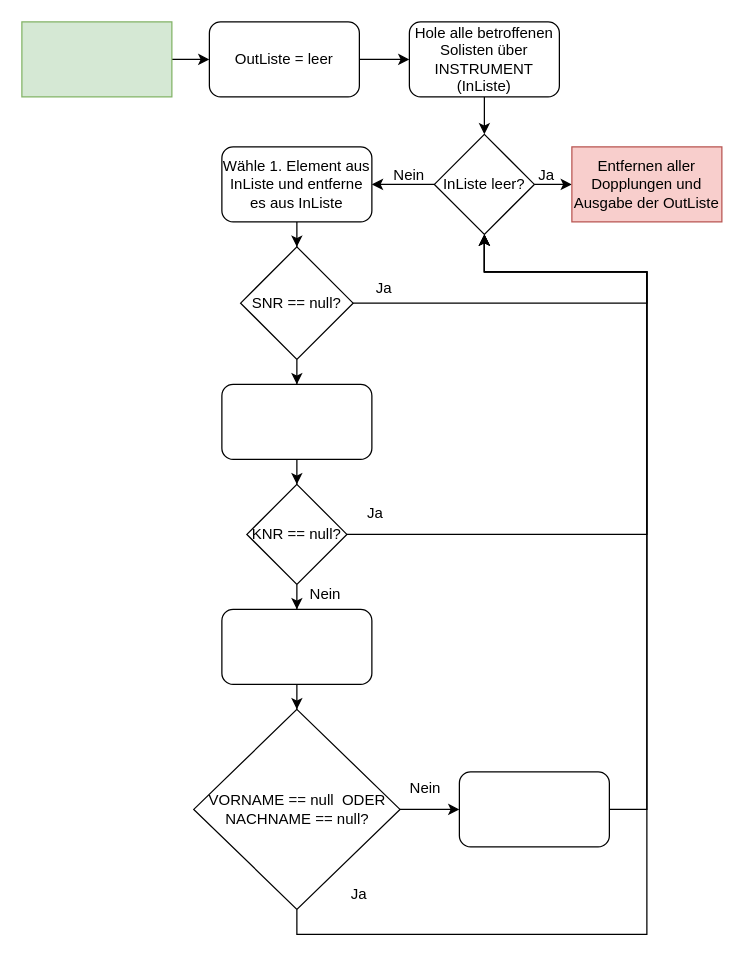
The diagram is 744 pixels wide and 966 high, and some of its shapes have lost their labels. The shapes that lost their labels are listed below. From the top down, each one's centre as x and y in pixels, then its label:
At [96,59]: "collect_komp Input: INSTRUMENT".
At [296,421]: "Hole Stueck zu SNR".
At [296,646]: "Hole Komponist über KNR".
At [533,809]: "Füge (VORNAME, NACHNAME) in OutListe ein".
